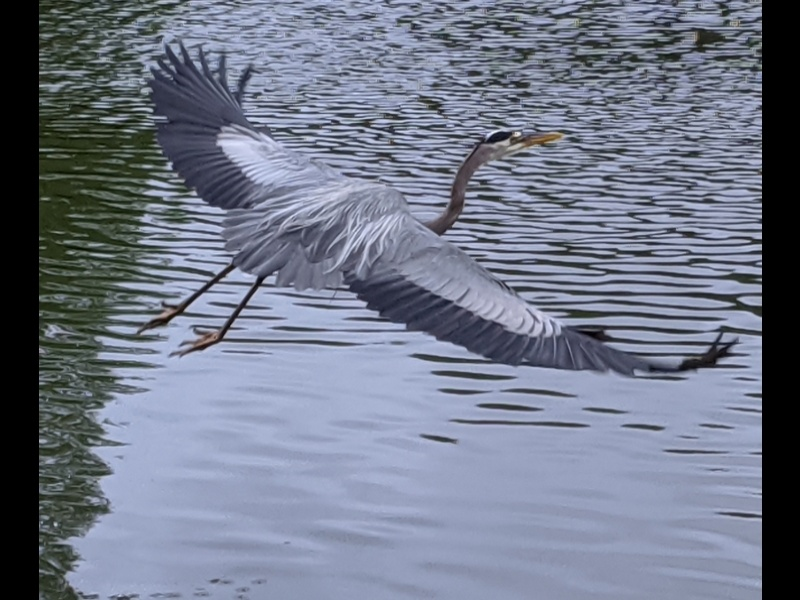heron: (127, 38, 744, 392)
